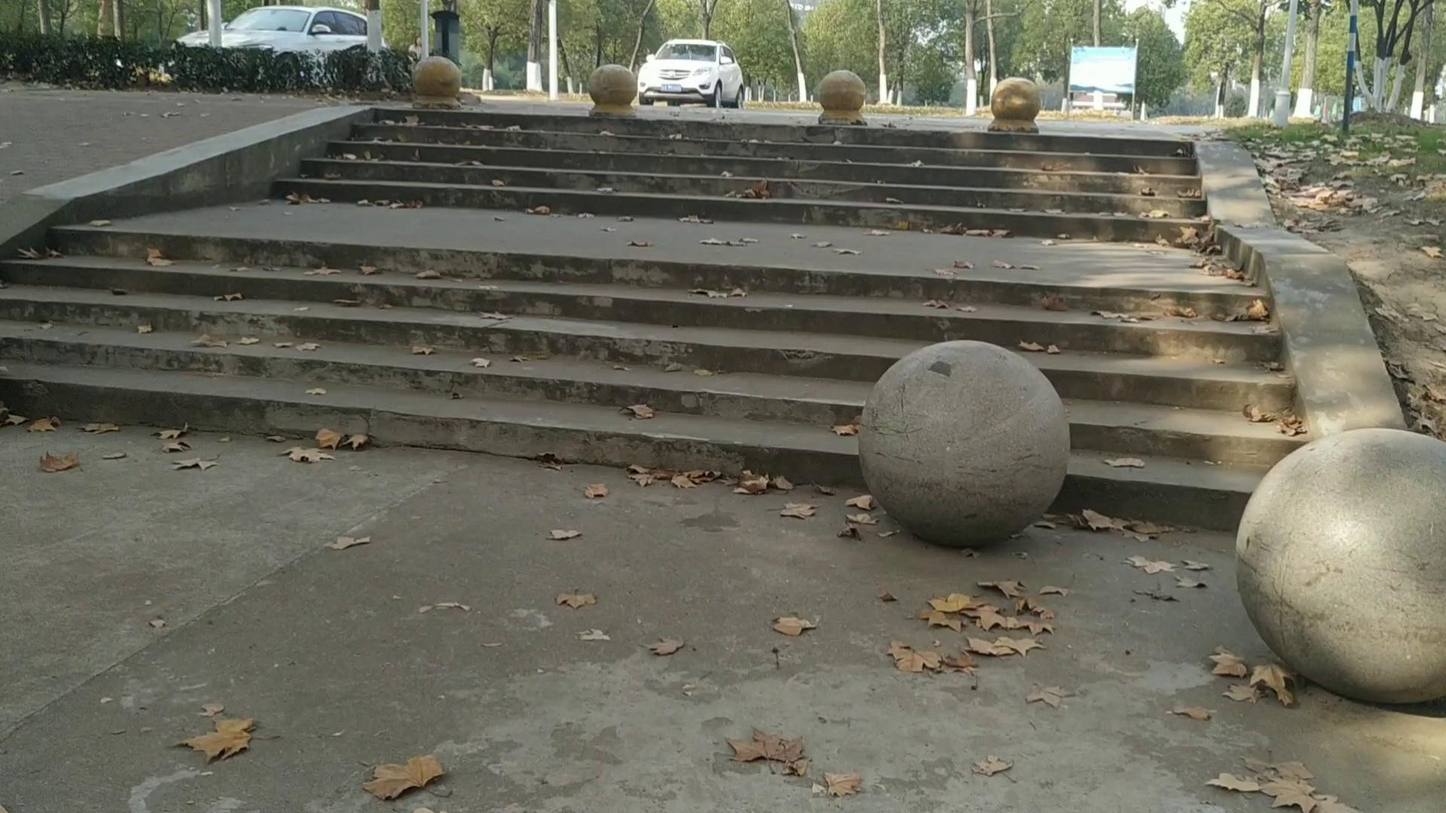car: (175, 5, 377, 53), (636, 38, 747, 109)
